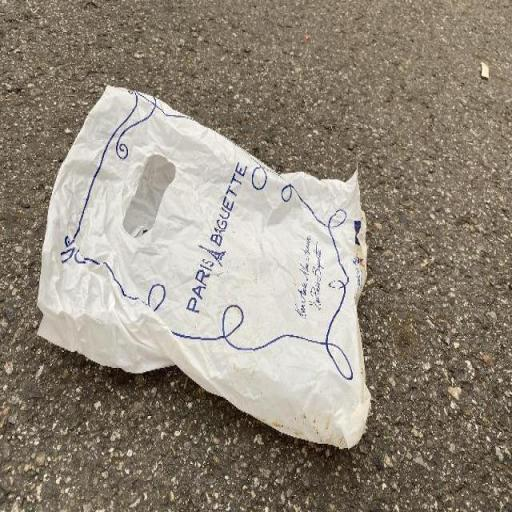plastic-bag: (34, 82, 374, 452)
